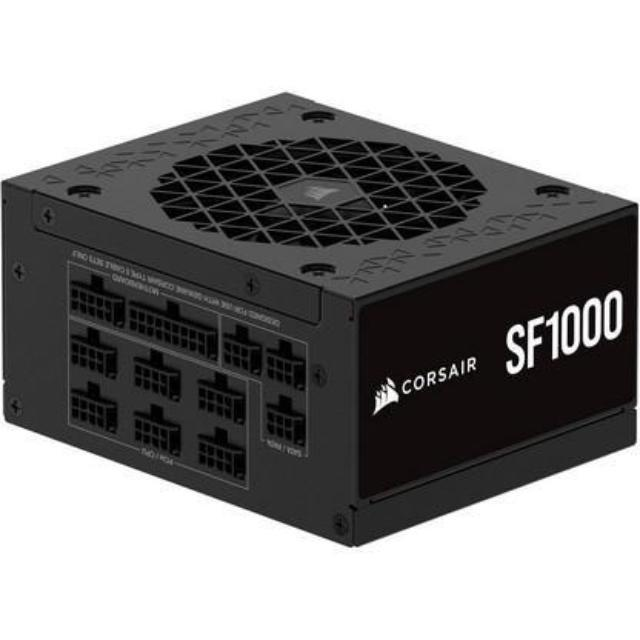PSU: (0, 91, 640, 549)
